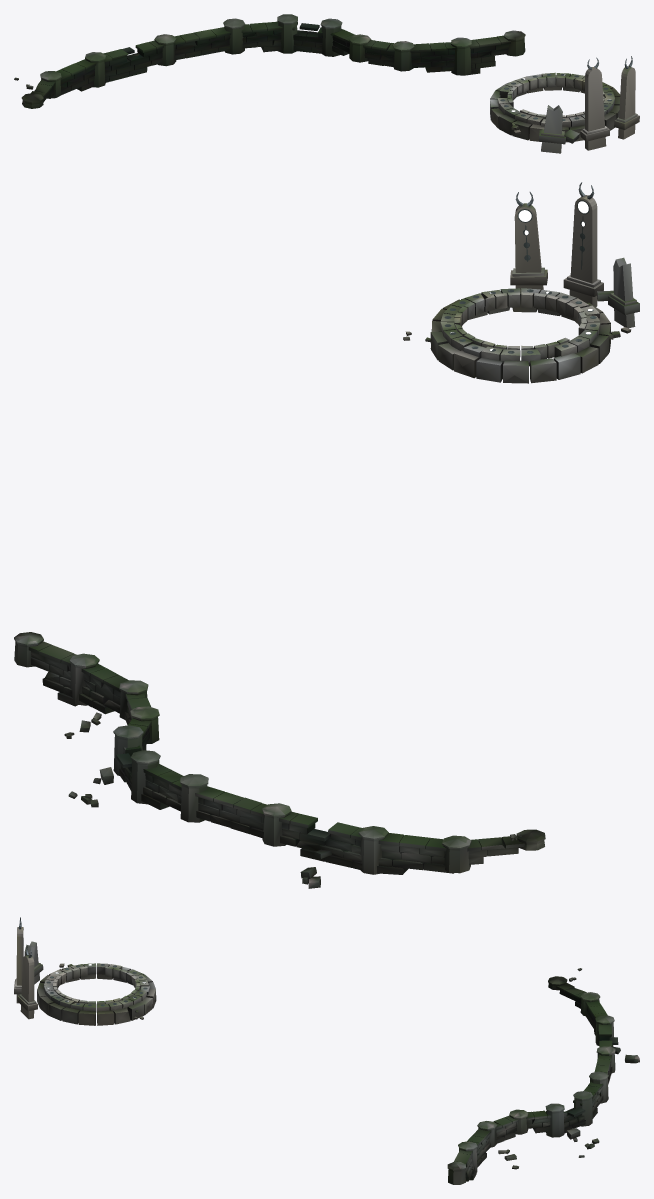
File: drowned_temple_entrance_works.glb
The picture shows the model from 3 angles, top to bottom: view 1: azimuth 30°, elevation 25°; view 2: azimuth 150°, elevation 25°; view 3: azimuth 270°, elevation 25°; orthographic projection. The views are drawn at different scales.
Parts seen in each view (by area): view 1: Entrance_Works; view 2: Entrance_Works; view 3: Entrance_Works.
Part boxes in pixels (box(x1,y1,x2,y2)): Entrance_Works: box(14, 14, 639, 153); Entrance_Works: box(14, 182, 639, 888); Entrance_Works: box(14, 917, 639, 1184).
Bounding box in the file's own units: 37.76 × 19.23 × 51.59.
